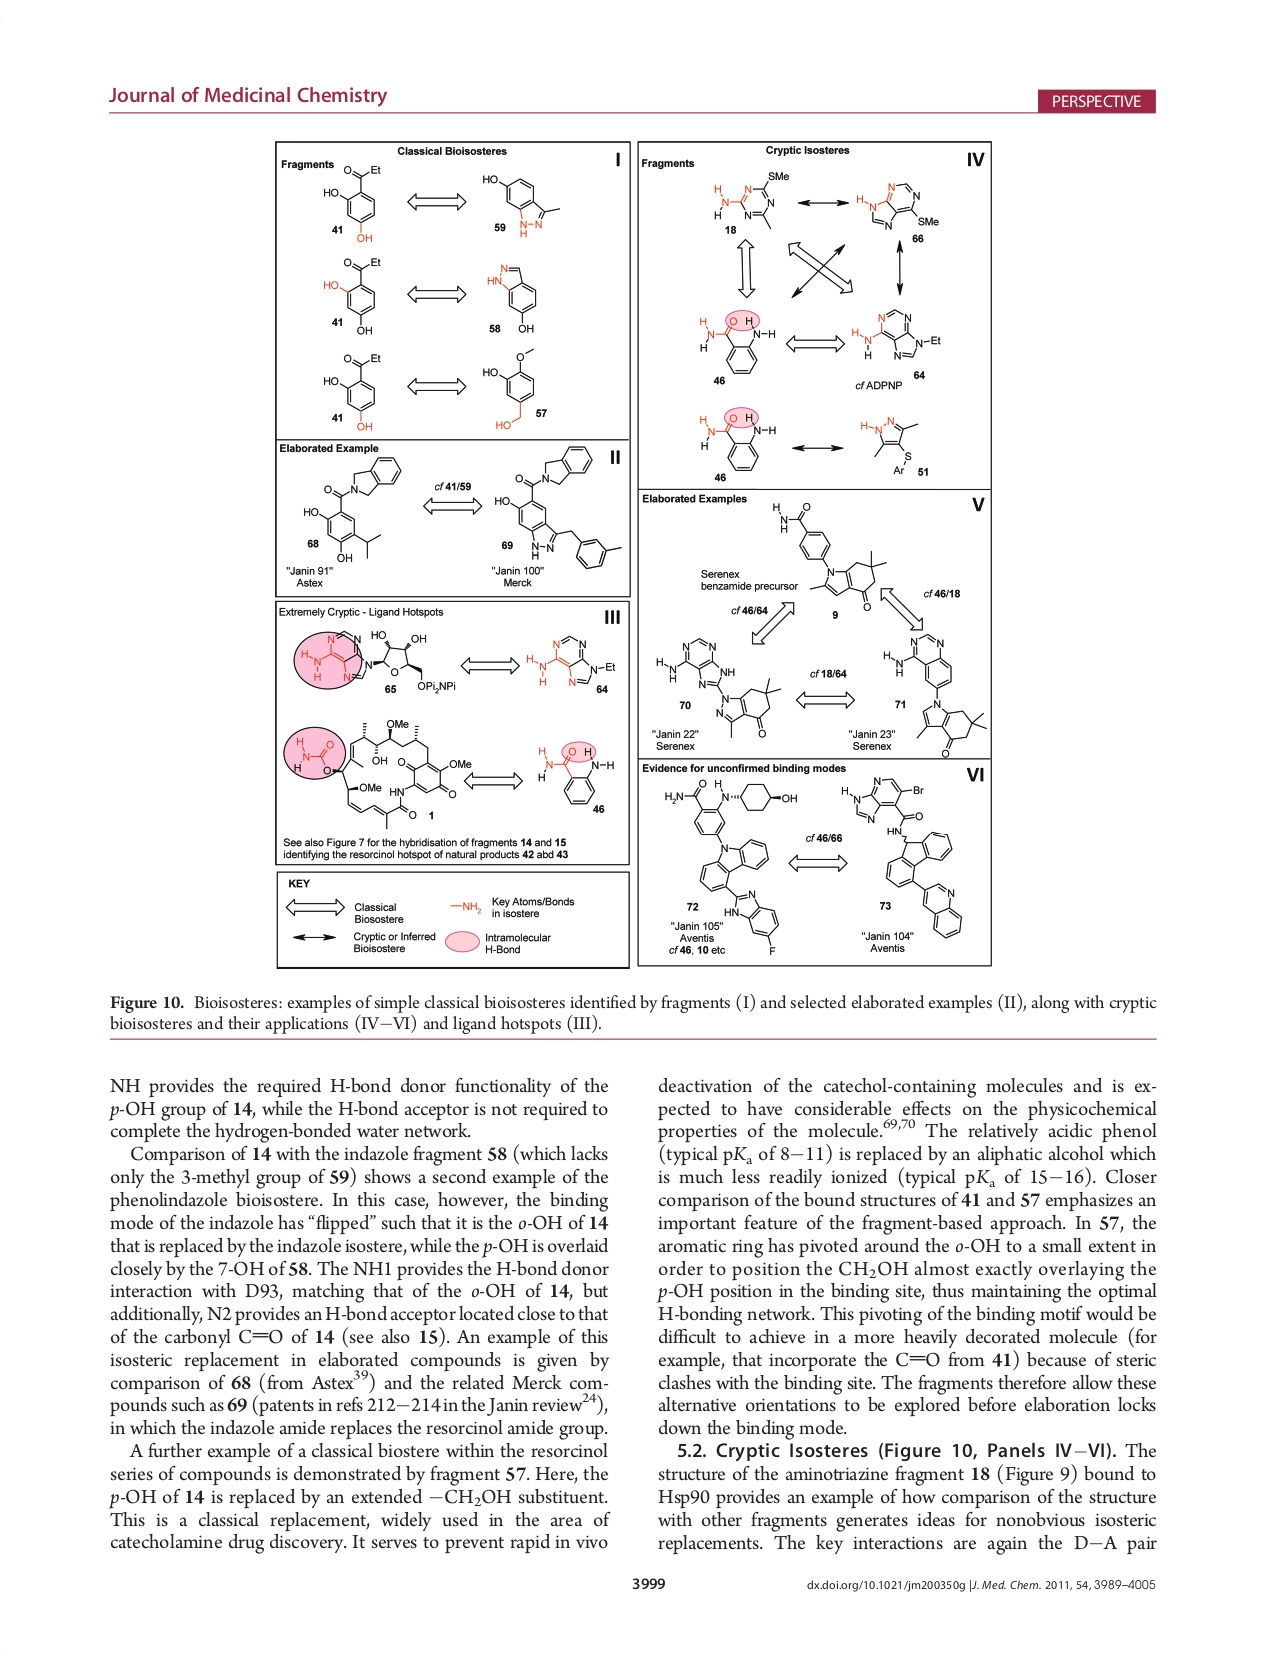exist_molecular: (662, 778, 801, 958), (293, 717, 473, 831), (839, 774, 961, 939), (493, 444, 625, 572), (880, 632, 989, 759), (653, 636, 782, 739), (770, 499, 890, 610), (302, 455, 404, 565), (299, 628, 457, 694), (533, 737, 620, 809), (696, 400, 777, 472), (477, 172, 563, 239), (690, 315, 779, 376), (320, 351, 386, 434), (848, 305, 944, 360), (318, 254, 382, 336), (320, 164, 384, 245), (523, 634, 618, 688), (480, 346, 539, 430), (710, 170, 790, 230), (855, 180, 942, 231), (856, 412, 922, 475), (485, 262, 540, 332)
